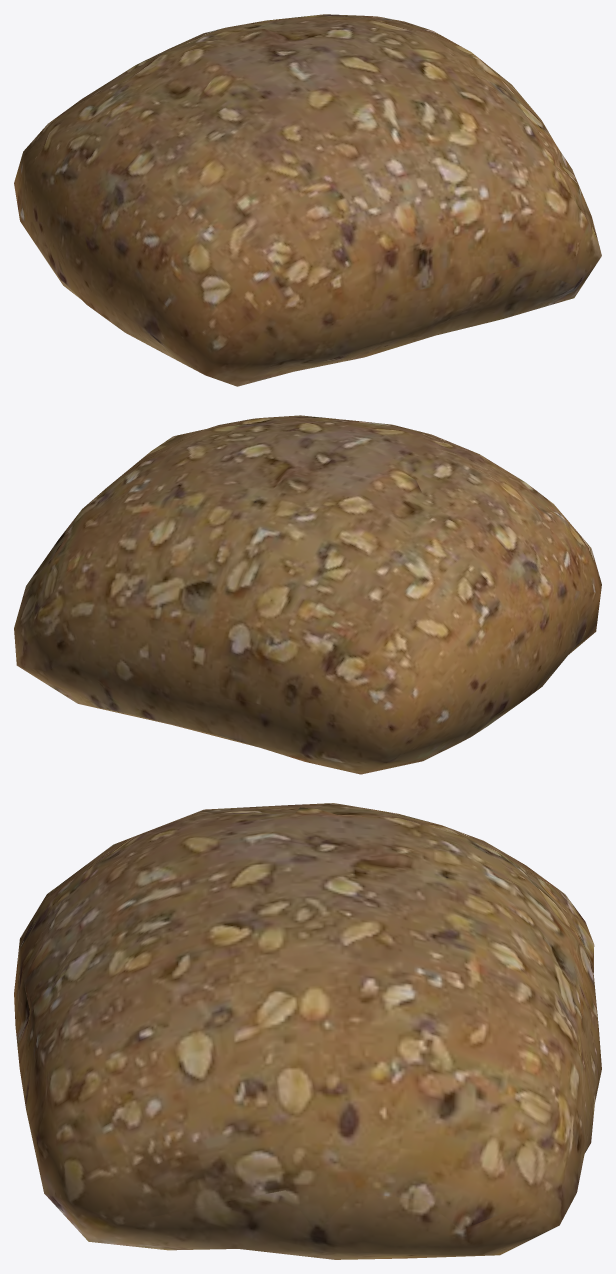
Rendered from 3DBread010.glb.
3 renders of one model, top to bottom at view 1: azimuth 30°, elevation 25°; view 2: azimuth 150°, elevation 25°; view 3: azimuth 270°, elevation 25°, orthographic. The views are drawn at different scales.
Parts seen in each view (by area): view 1: 3DBread010; view 2: 3DBread010; view 3: 3DBread010.
Part boxes in pixels (x1,y1,x2,y2): 3DBread010: (14,14,601,386); 3DBread010: (14,415,601,774); 3DBread010: (14,803,601,1259).
Size of the model in its own units: 0.0718 by 0.0354 by 0.0627.
Materials: 1 (1 with a texture image).
